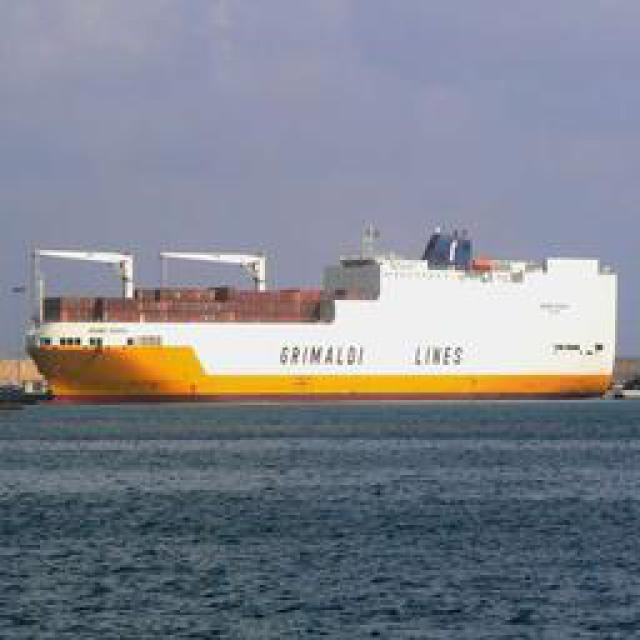Ship: (18, 229, 616, 404)
